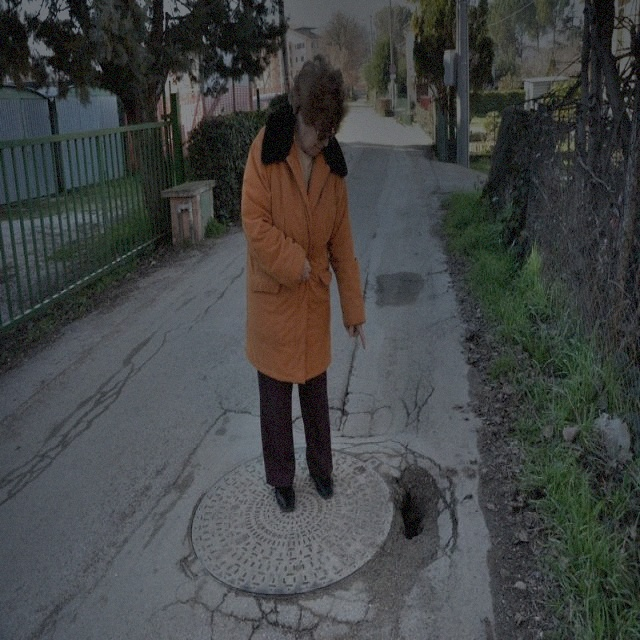pothole: (390, 461, 430, 551)
